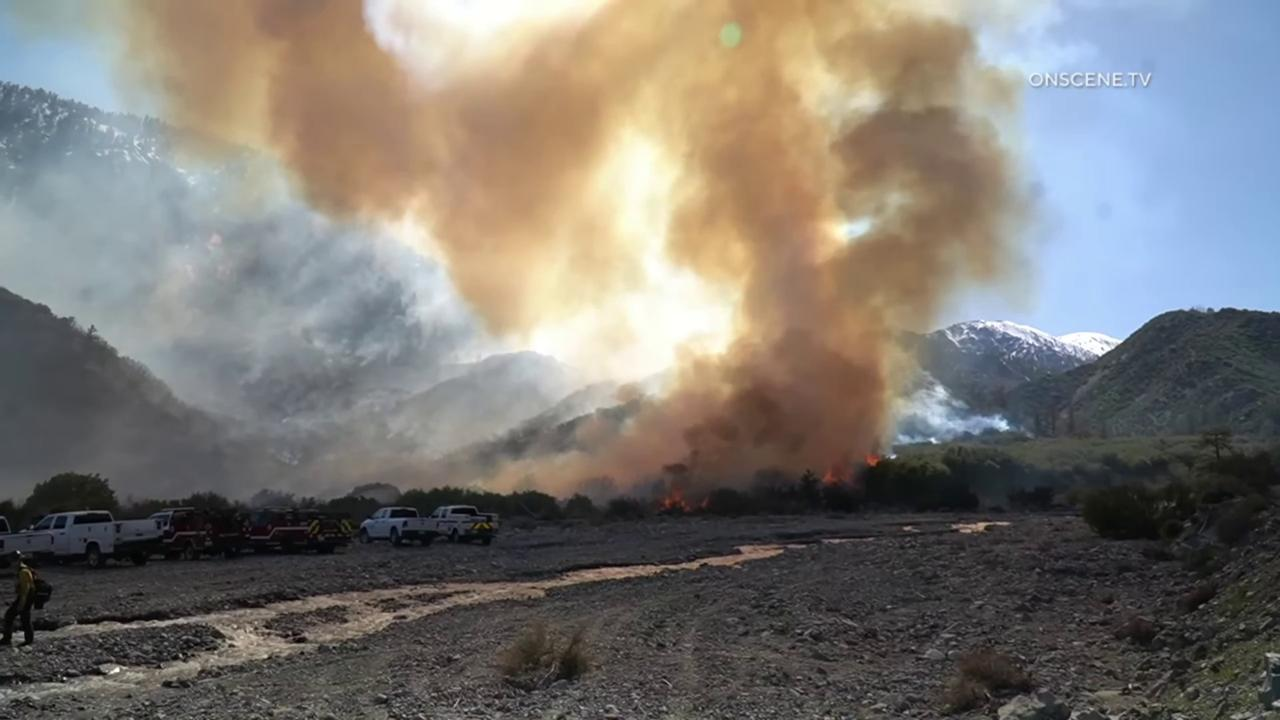fire: (660, 487, 709, 513), (865, 454, 882, 467), (821, 471, 835, 485)
smoke: (0, 0, 1059, 514)
